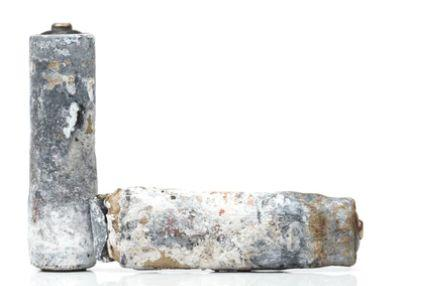battery: (97, 186, 362, 270), (27, 22, 101, 272)
